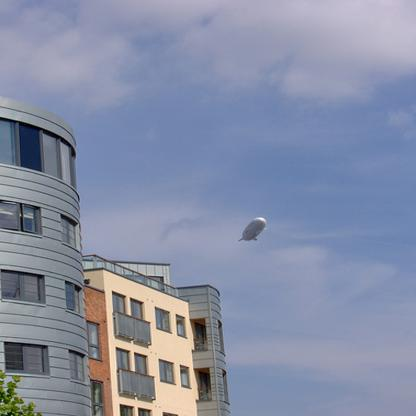Airship: (237, 214, 270, 250)
